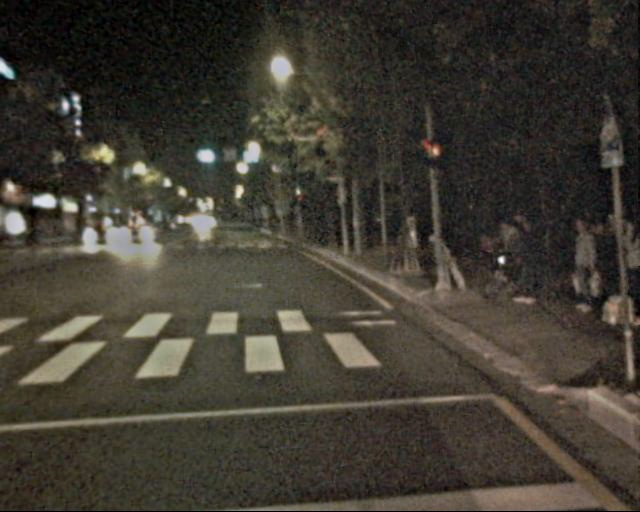person: (564, 220, 603, 313), (608, 217, 640, 330), (512, 209, 548, 282), (513, 227, 547, 304), (494, 221, 525, 291)
